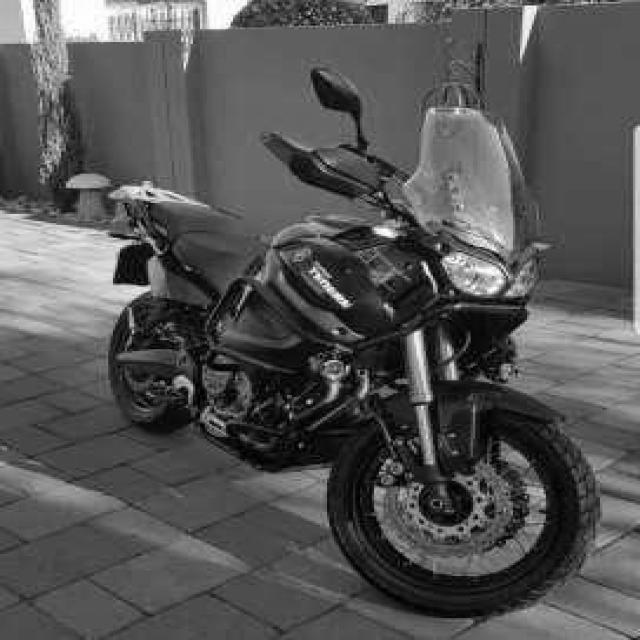Motorcycle: (113, 68, 596, 614)
